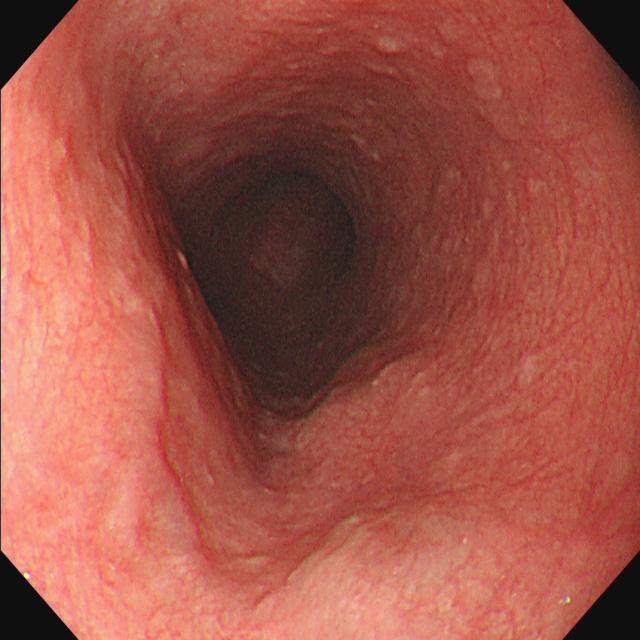E: (218, 165, 357, 323)
